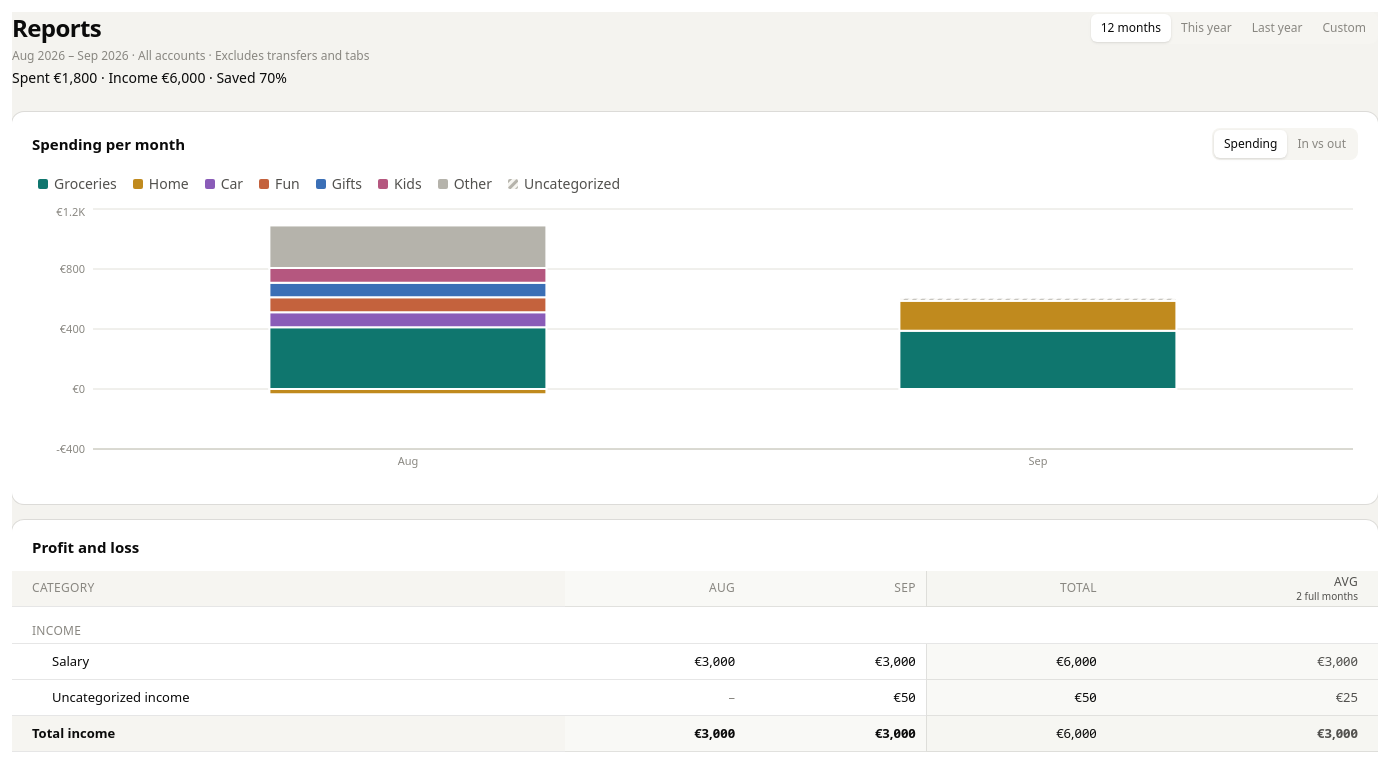
ReportsPage › switches the chart to In vs out, following the period
Expected: the text "All accounts" is shown, [129,47,370,64]
Click the button "In vs out". click: (1322, 144)
box: [1287,130,1356,158]
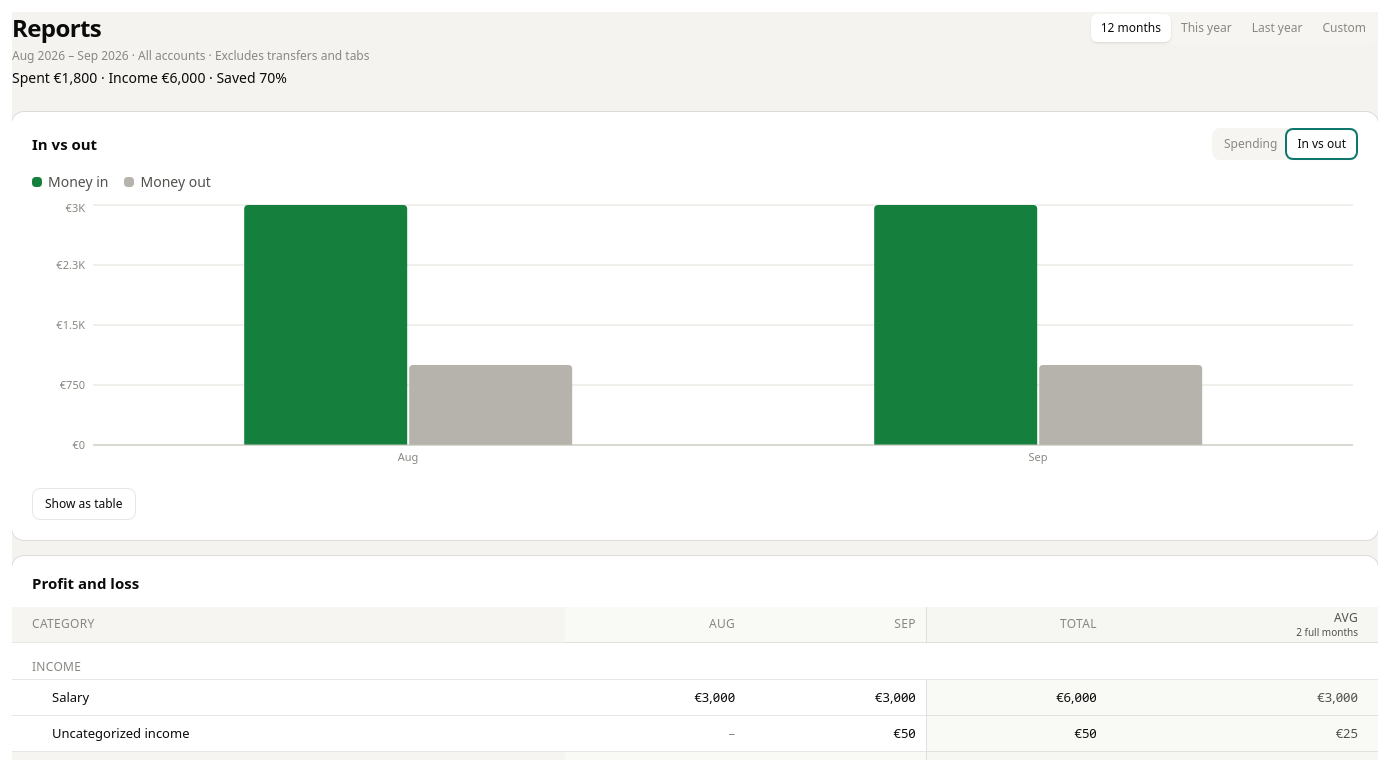
Expected: the picture named "Money in vs money out over the last 2 months" is shown, [32,200,1358,480]
